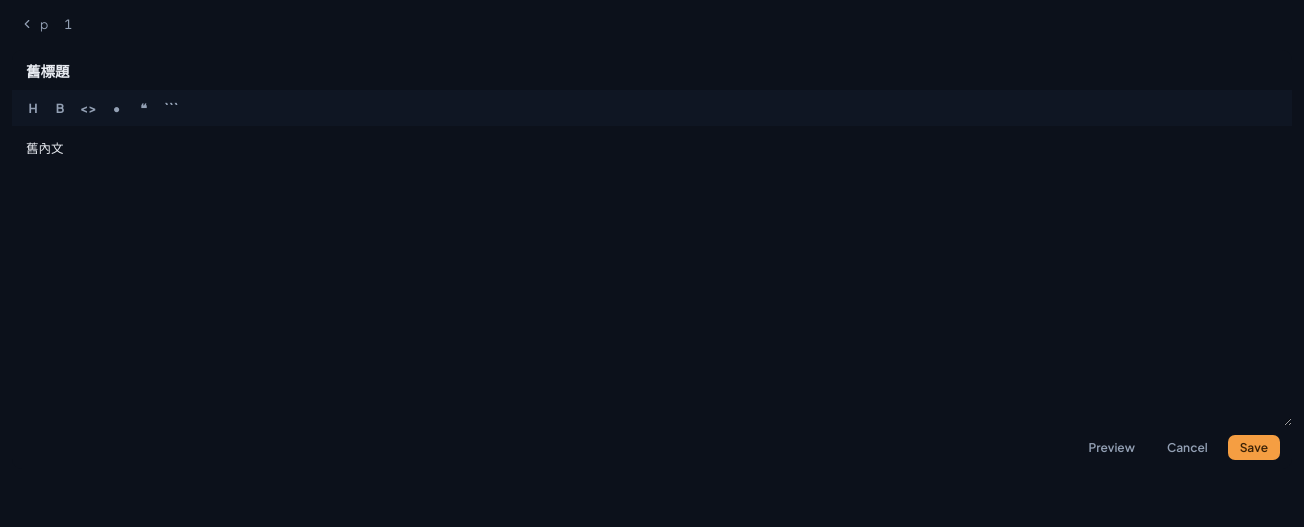
TaskEditor › 409：編輯區一個字不動、顯示衝突提示、草稿留著
Replace the text in the text box named "Body" with "我打的" at (652, 276), box 12,126 -> 1292,426
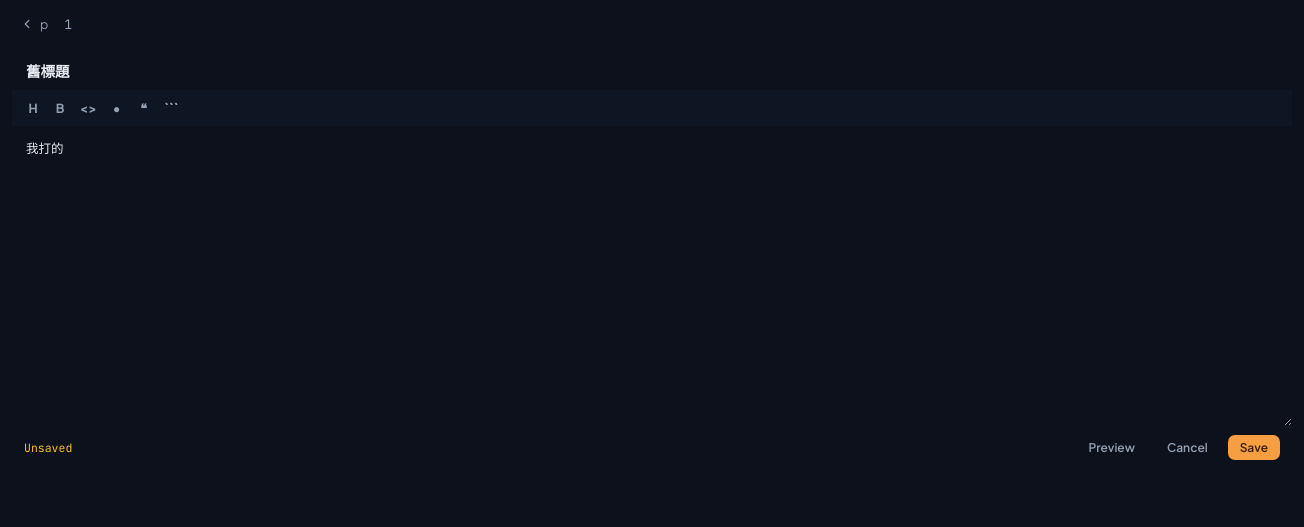
Click the button "Save" at (1254, 448), box 1228,435 -> 1280,460
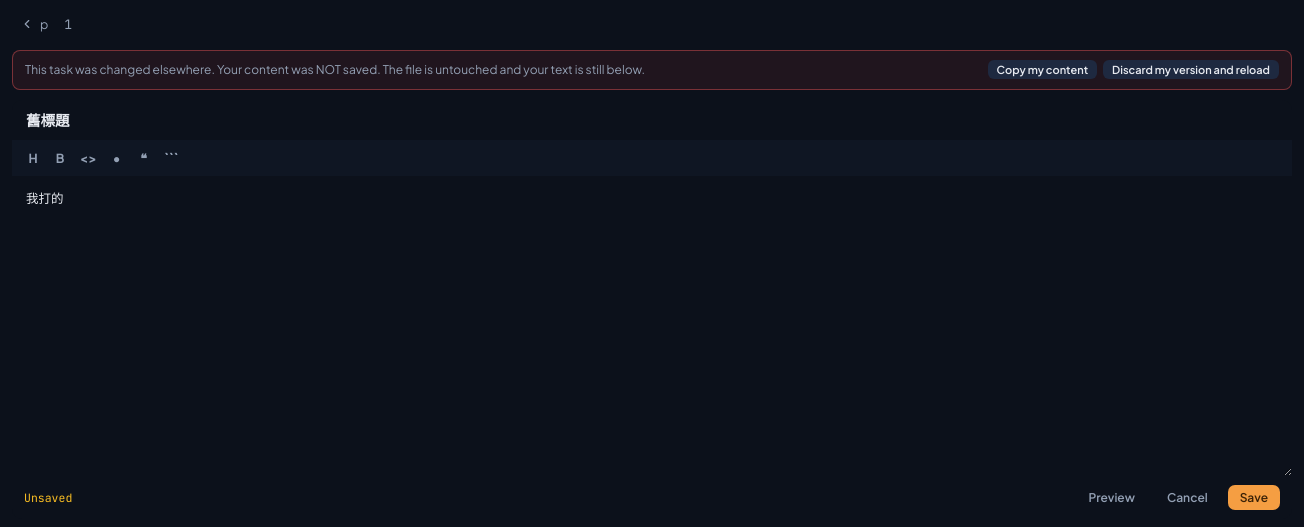
Expected: the text box named "Body" is enabled, 12,176 -> 1292,476
Now the text "This task was changed elsewhere. Your content was NOT saved. The file is untouched and your text is still below." is shown, box 25,62 -> 645,77
